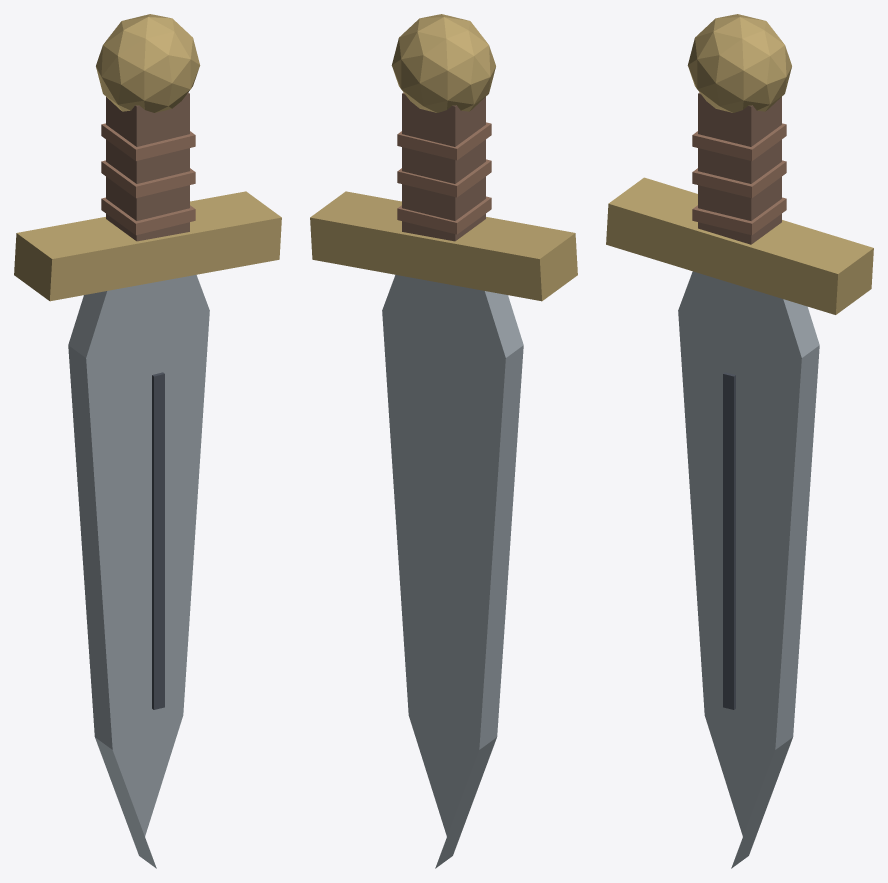
File: weapon_iron_sword.glb
3 views of the same model, side by side, from view 1: azimuth 30°, elevation 25°; view 2: azimuth 150°, elevation 25°; view 3: azimuth 330°, elevation 25° (orthographic).
Parts seen in each view (by area): view 1: iron_blade, crossguard, pommel, grip, central_fuller, grip_wrap_1.47, grip_wrap_1.55, grip_wrap_1.63; view 2: iron_blade, crossguard, pommel, grip, grip_wrap_1.47, grip_wrap_1.55, grip_wrap_1.63; view 3: iron_blade, crossguard, pommel, grip, central_fuller, grip_wrap_1.47, grip_wrap_1.55, grip_wrap_1.63.
Part boxes in pixels (x1=…): iron_blade: x1=68, y1=275, x2=209, y2=868; crossguard: x1=14, y1=191, x2=281, y2=301; pommel: x1=96, y1=14, x2=200, y2=112; grip: x1=106, y1=92, x2=189, y2=241; central_fuller: x1=152, y1=372, x2=164, y2=709; grip_wrap_1.47: x1=101, y1=197, x2=195, y2=235; grip_wrap_1.55: x1=101, y1=160, x2=195, y2=198; grip_wrap_1.63: x1=101, y1=123, x2=195, y2=160; iron_blade: x1=382, y1=275, x2=523, y2=868; crossguard: x1=310, y1=191, x2=577, y2=301; pommel: x1=391, y1=14, x2=495, y2=112; grip: x1=402, y1=92, x2=485, y2=241; grip_wrap_1.47: x1=397, y1=196, x2=491, y2=234; grip_wrap_1.55: x1=397, y1=159, x2=491, y2=197; grip_wrap_1.63: x1=397, y1=122, x2=491, y2=160; iron_blade: x1=678, y1=271, x2=819, y2=868; crossguard: x1=606, y1=177, x2=873, y2=314; pommel: x1=687, y1=14, x2=791, y2=112; grip: x1=698, y1=92, x2=781, y2=244; central_fuller: x1=723, y1=372, x2=735, y2=709; grip_wrap_1.47: x1=692, y1=197, x2=786, y2=235; grip_wrap_1.55: x1=692, y1=160, x2=786, y2=198; grip_wrap_1.63: x1=692, y1=123, x2=786, y2=160.
Bounding box in the file's own units: 0.5245 × 1.82 × 0.189.
